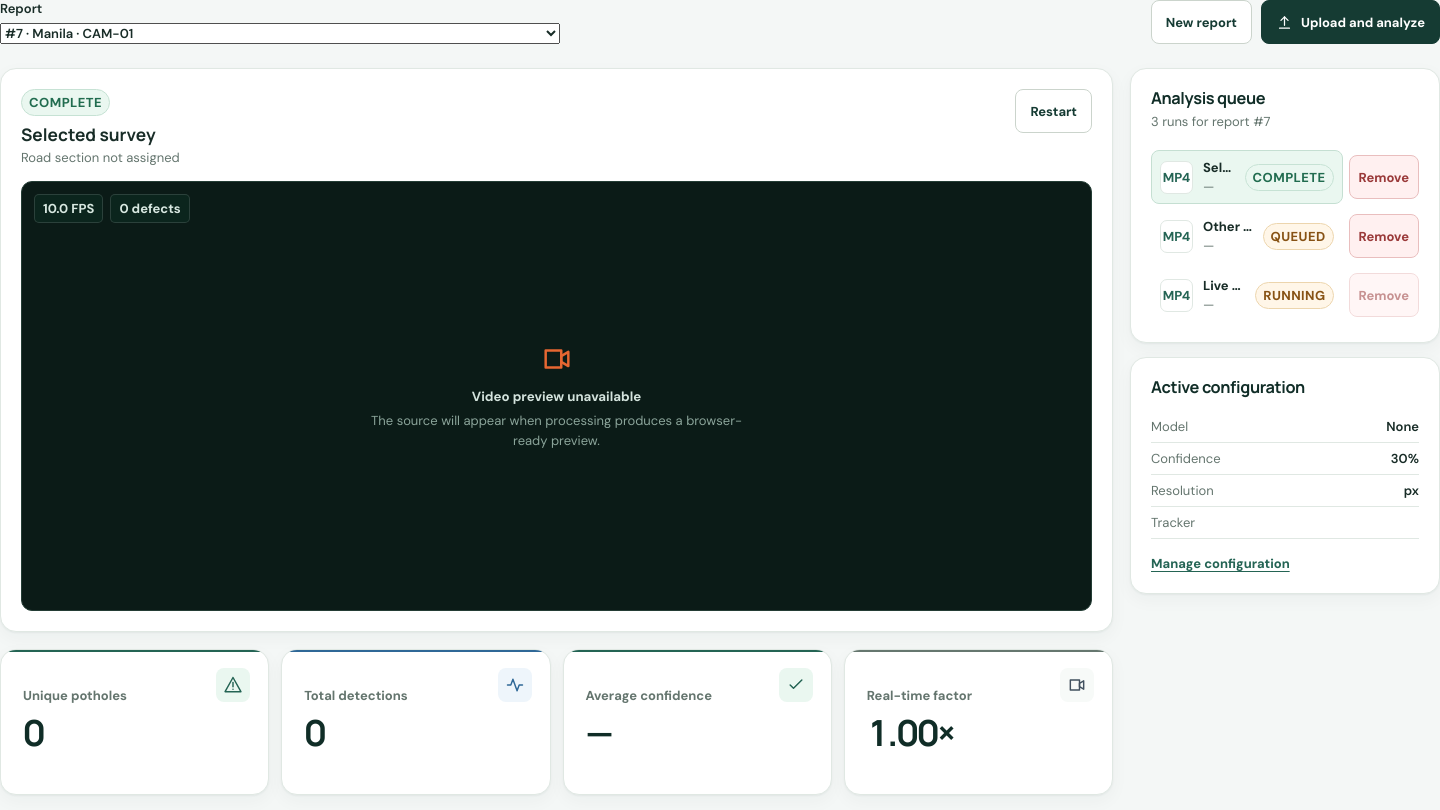
Test: report-specific analysis › clears the report context immediately when returning to the report picker
This screenshot has width=1440, height=810.
Select "Select a report" in the dropdown labelled "Report". click: (280, 34)
box: [0,23,560,44]
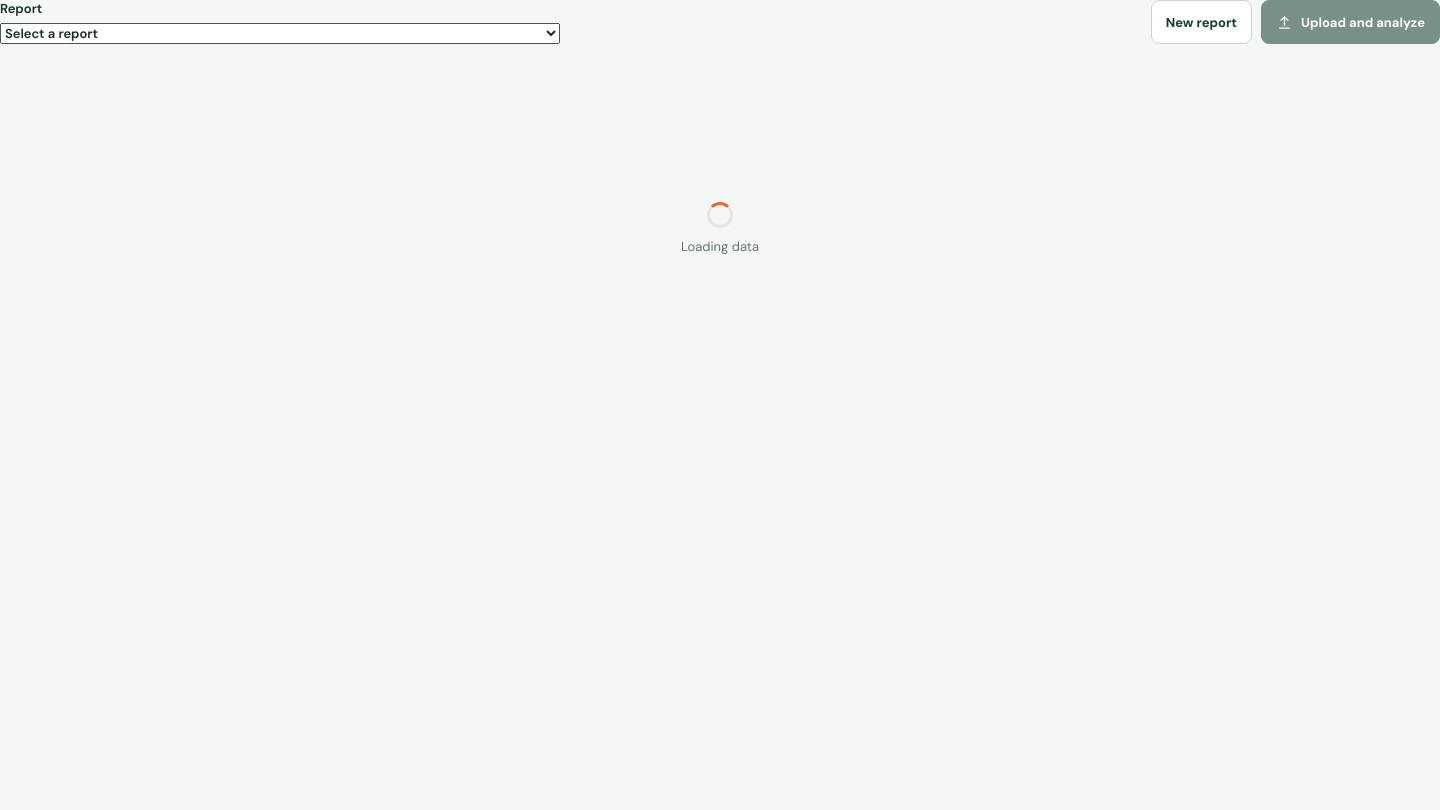
Result: the heading "Selected survey" is gone
Result: the button "Upload and analyze" is disabled at [1261,0,1439,44]
